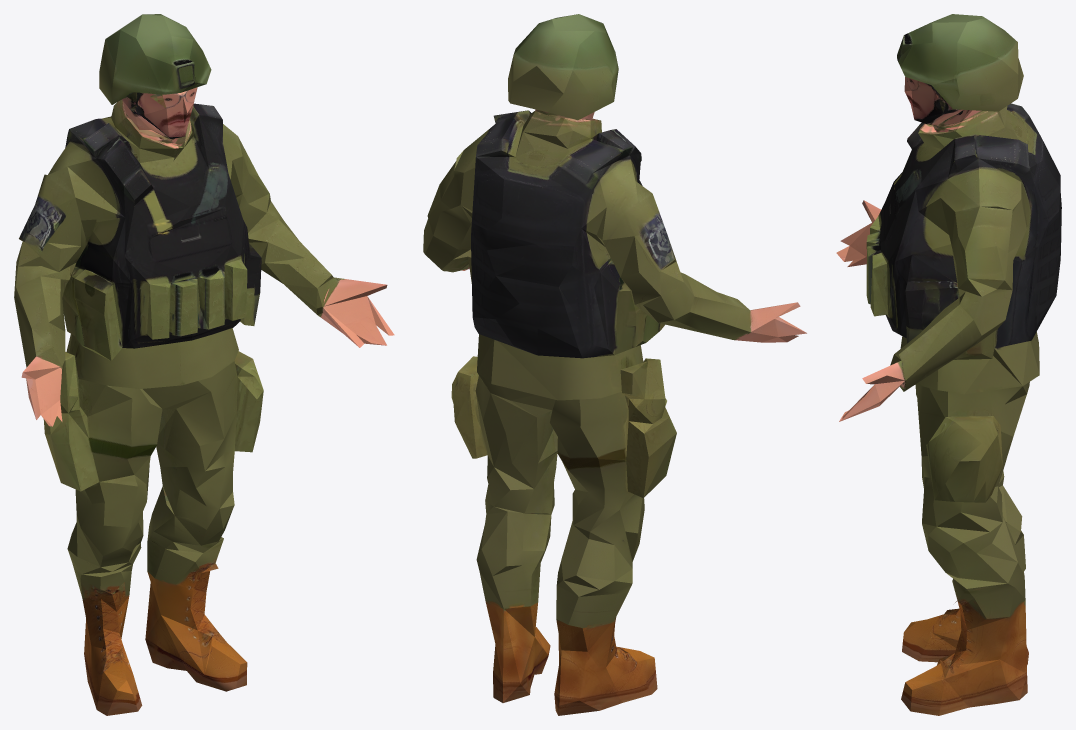
3 views of the same model, side by side, from view 1: azimuth 30°, elevation 25°; view 2: azimuth 150°, elevation 25°; view 3: azimuth 270°, elevation 25° (orthographic).
Parts seen in each view (by area): view 1: output_unwrapped; view 2: output_unwrapped; view 3: output_unwrapped.
Part boxes in pixels (x1,y1,x2,y2): output_unwrapped: (14,14,394,715); output_unwrapped: (423,14,806,715); output_unwrapped: (836,14,1061,715).
Bounding box in the file's own units: 1.09 × 1.89 × 0.5827.
1 material, 1 textured.
